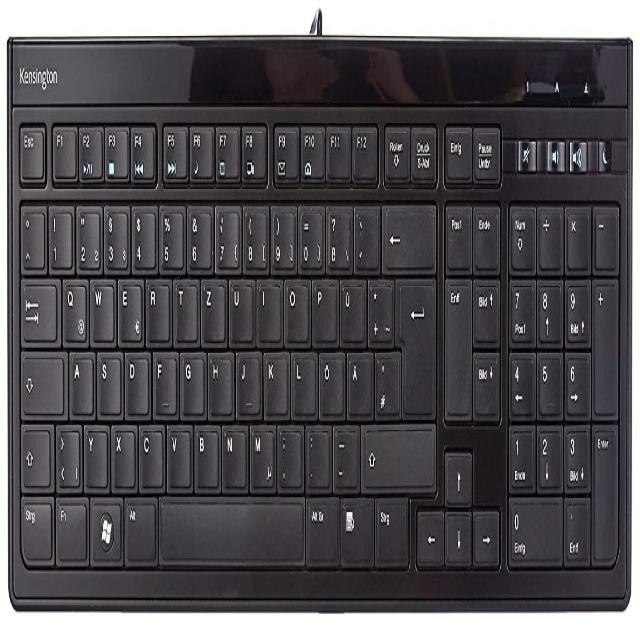0: (297, 199, 323, 268)
1: (47, 202, 72, 268)
2: (74, 202, 100, 269)
3: (102, 202, 128, 269)
4: (130, 200, 154, 267)
5: (157, 199, 183, 267)
6: (185, 200, 210, 269)
7: (213, 200, 239, 269)
8: (241, 199, 267, 268)
9: (269, 200, 294, 269)
a: (67, 346, 93, 413)
accent: (352, 198, 377, 267)
ae: (345, 346, 371, 415)
alt-left: (122, 491, 155, 560)
altgr-right: (304, 490, 337, 562)
b: (192, 419, 218, 486)
c: (137, 419, 163, 486)
caret: (18, 199, 43, 266)
comma: (275, 420, 301, 488)
d: (123, 345, 148, 414)
del: (381, 195, 434, 266)
e: (116, 272, 142, 342)
enter: (394, 272, 434, 414)
f: (151, 345, 176, 414)
g: (178, 347, 203, 413)
h: (206, 345, 231, 414)
hash: (373, 344, 399, 414)
i: (255, 274, 280, 341)
j: (234, 344, 259, 414)
k: (262, 345, 288, 414)
keyboard: (4, 86, 636, 609)
l: (289, 345, 315, 414)
less: (54, 419, 79, 487)
m: (247, 419, 274, 490)
minus: (330, 419, 357, 488)
n: (220, 420, 246, 487)
o: (281, 272, 308, 341)
oe: (317, 346, 343, 415)
p: (309, 272, 336, 342)
plus: (366, 272, 391, 342)
point: (303, 419, 329, 486)
q: (59, 273, 86, 342)
r: (143, 272, 169, 341)
s: (95, 345, 120, 414)
shift-left: (19, 420, 49, 486)
shift-lock: (19, 346, 63, 413)
shift-right: (360, 418, 433, 485)
space: (157, 491, 303, 560)
ss: (324, 199, 350, 268)
strg-left: (22, 497, 55, 564)
strg-right: (372, 491, 407, 563)
t: (172, 272, 196, 341)
tab: (19, 272, 56, 339)
u: (227, 273, 253, 342)
ue: (338, 272, 365, 342)
v: (165, 420, 190, 486)
w: (88, 274, 113, 341)
x: (110, 420, 135, 487)
y: (82, 420, 107, 486)
z: (199, 272, 224, 341)
